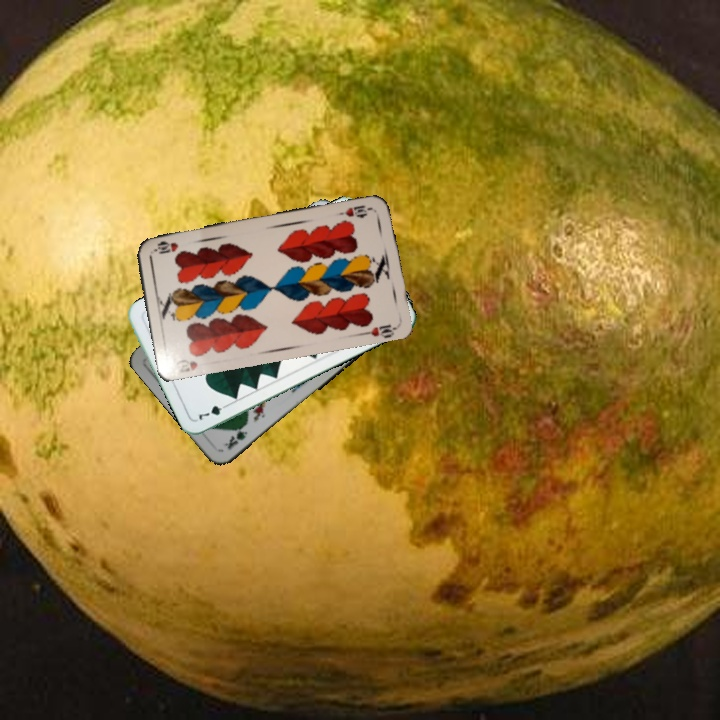G7: (194, 400, 232, 423)
GK: (220, 419, 250, 452)
H10: (341, 201, 375, 220), (172, 355, 200, 376)
